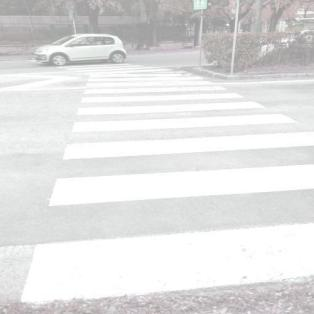Paso de Cebra: (62, 100, 307, 136)
